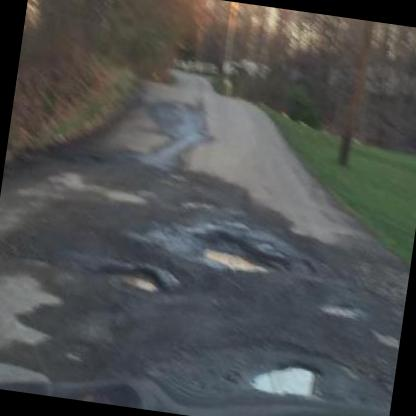pothole: (189, 224, 288, 277), (244, 351, 326, 403), (57, 374, 146, 408), (99, 258, 167, 296), (318, 297, 361, 318)
